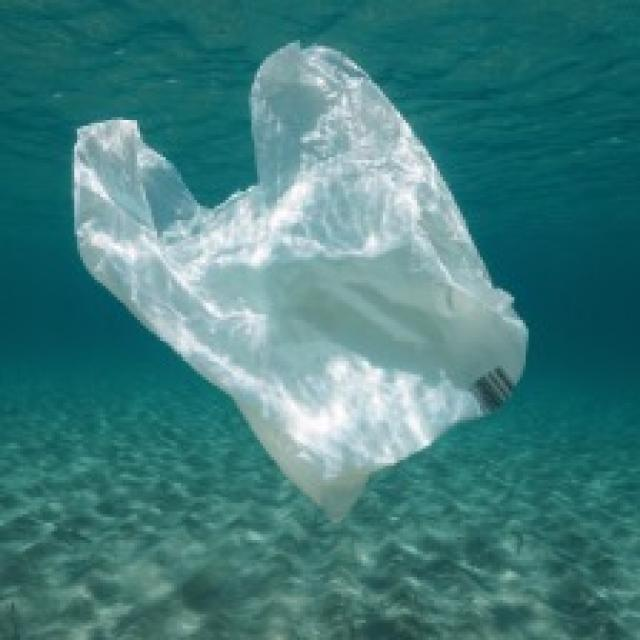plastic_bag: (59, 57, 553, 520)
